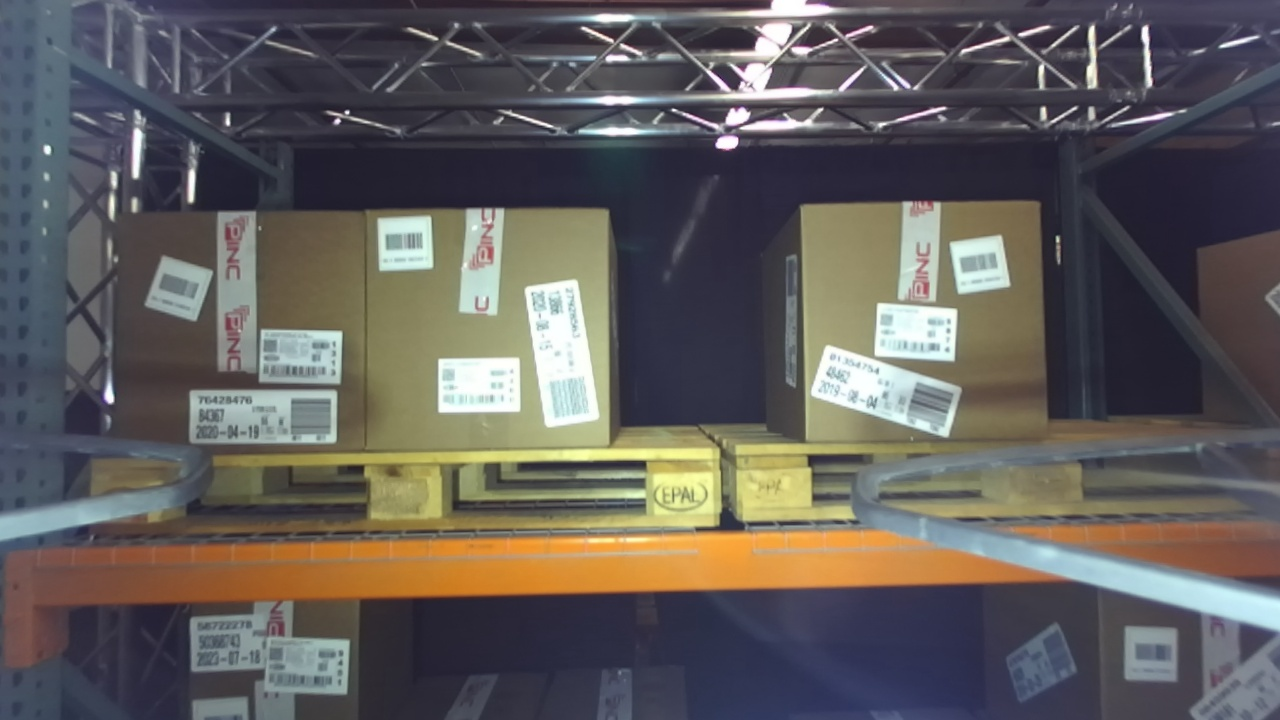box: (346, 186, 638, 473), (93, 195, 382, 474), (782, 184, 1066, 460)
